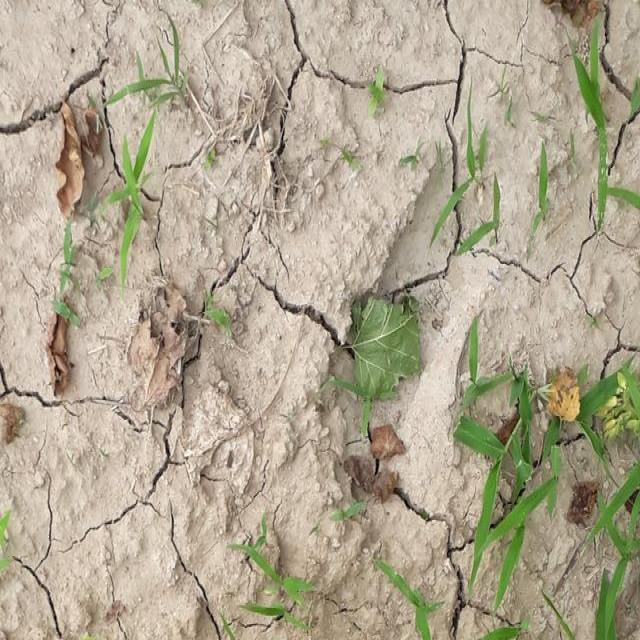weed: (464, 352, 532, 602), (576, 411, 640, 639), (567, 53, 640, 236), (439, 117, 516, 264), (103, 115, 155, 242), (104, 50, 198, 100)
